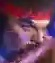ryu: (9, 5, 54, 57)
